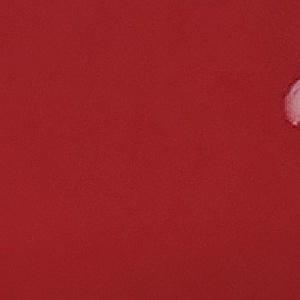colony: (279, 74, 300, 133)
